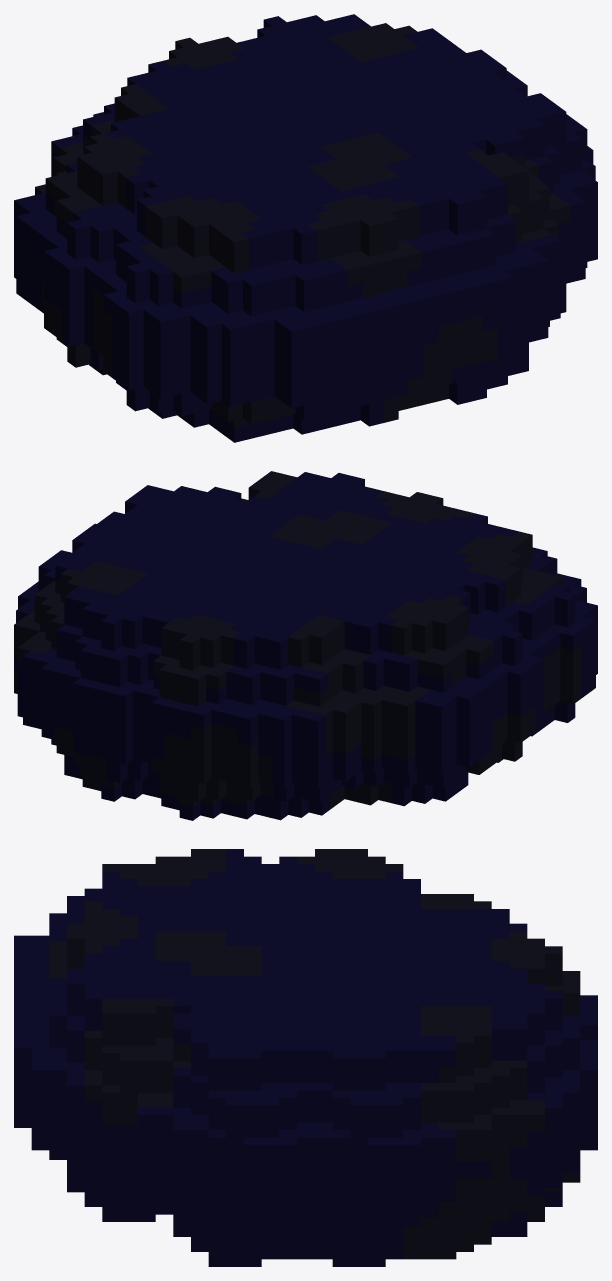
File: Menu-1.obj
The picture shows the model from 3 angles, top to bottom: view 1: azimuth 30°, elevation 25°; view 2: azimuth 150°, elevation 25°; view 3: azimuth 270°, elevation 25°; orthographic projection. The views are drawn at different scales.
Size of the model in its own units: 3.5 by 1.3 by 3.3.
1 material, 1 textured.
